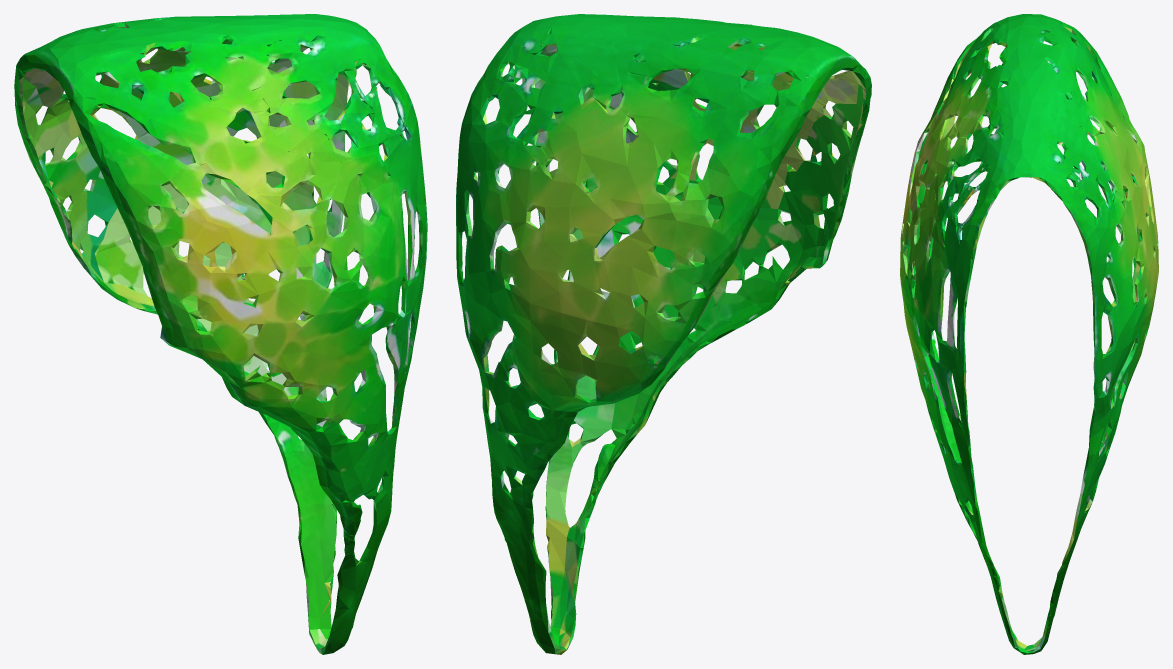
File: aloe_vera.glb
3 views of the same model, side by side, from view 1: azimuth 30°, elevation 25°; view 2: azimuth 150°, elevation 25°; view 3: azimuth 270°, elevation 25° (orthographic). The views are drawn at different scales.
Visible parts, largest first — view 1: tmpgvawykny.ply; view 2: tmpgvawykny.ply; view 3: tmpgvawykny.ply.
Boxes of the visible parts, left/top/right/bottom form: tmpgvawykny.ply: left=14, top=14, right=427, bottom=654; tmpgvawykny.ply: left=456, top=14, right=871, bottom=654; tmpgvawykny.ply: left=900, top=14, right=1158, bottom=654.
Bounding box in the file's own units: 1.06 × 2 × 0.8696.
1 material, 1 textured.
